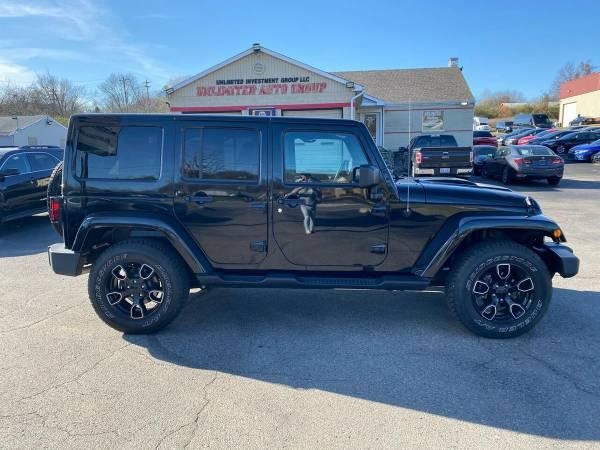Front_Bumper: (545, 240, 580, 280)
Front_Fender: (391, 196, 566, 277)
Front_Right_Door: (272, 185, 391, 275)
Front_Right_Window: (272, 118, 391, 185)
Hood: (391, 170, 527, 202)
Rear_Bumper: (47, 240, 85, 274)
Rear_Fender: (61, 110, 215, 275)
Rear_Left_Window: (174, 113, 271, 183)
Rear_Right_Door: (174, 180, 272, 269)
Right_Taillight: (49, 194, 63, 222)
Wheel: (82, 236, 190, 333), (451, 244, 556, 343)
